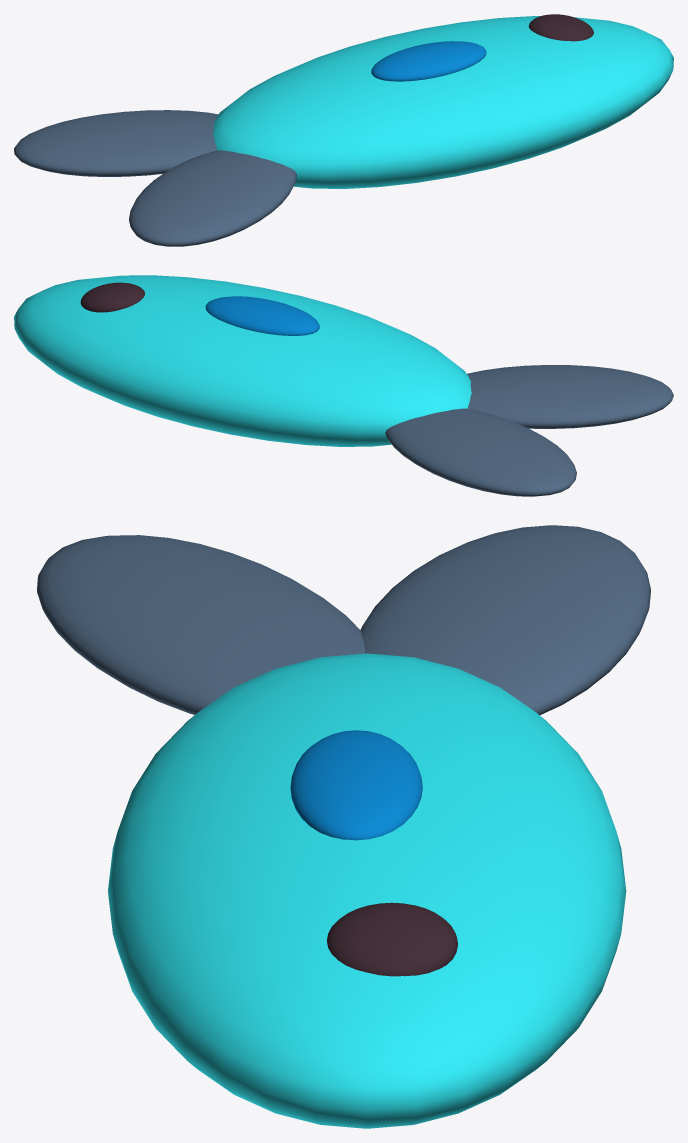
The model's file is Fish 1.fbx.
3 views of the same model, one above another, from view 1: azimuth 30°, elevation 25°; view 2: azimuth 150°, elevation 25°; view 3: azimuth 270°, elevation 25° (orthographic). The views are drawn at different scales.
Visible parts, largest first — view 1: Fish; view 2: Fish; view 3: Fish.
Boxes of the visible parts, x1=… form: Fish: x1=14, y1=14, x2=673, y2=246; Fish: x1=14, y1=275, x2=673, y2=496; Fish: x1=37, y1=525, x2=650, y2=1128.
Size of the model in its own units: 412 by 67.63 by 184.
